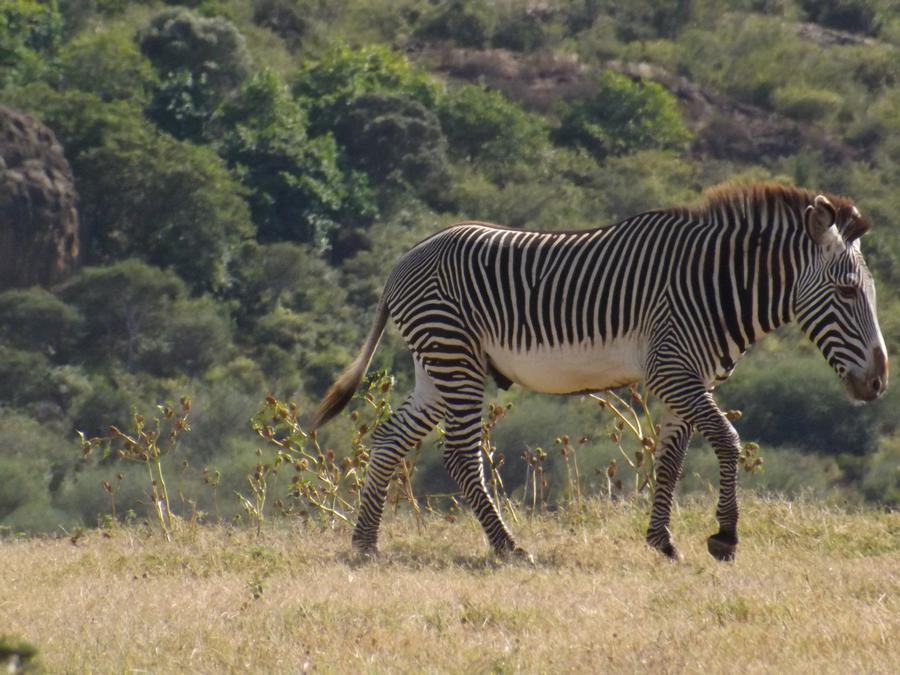zebra_grevys: (355, 221, 720, 382)
